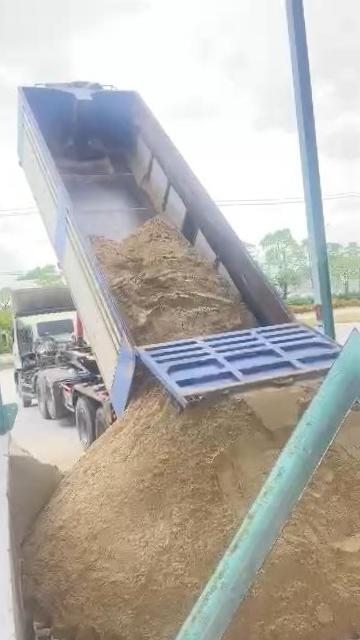sand: (25, 371, 287, 640), (217, 450, 360, 640), (93, 220, 254, 342), (11, 445, 61, 543), (246, 380, 321, 437), (334, 400, 359, 460)
